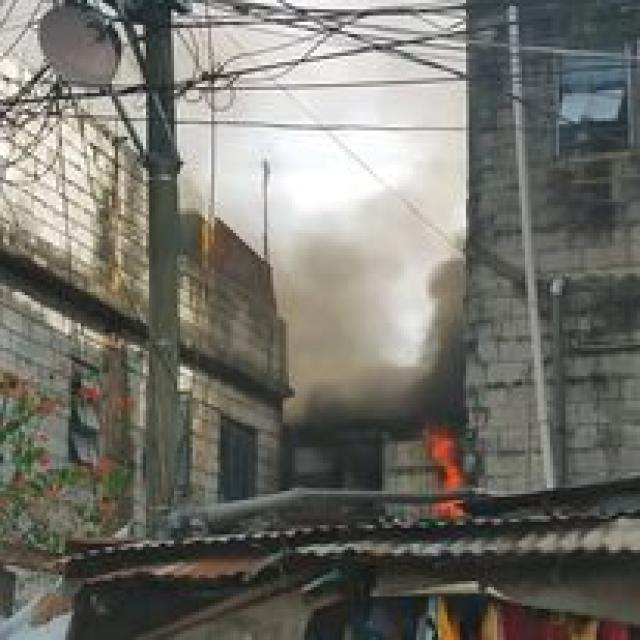Fire: (432, 423, 465, 503)
Smoke: (288, 224, 448, 424)
